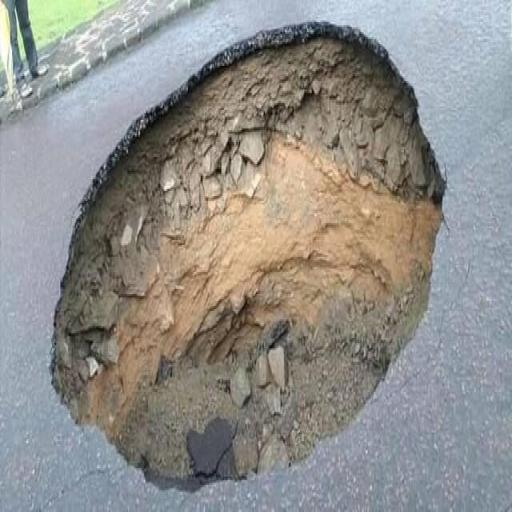Concentric_Crack: (53, 23, 444, 487)
